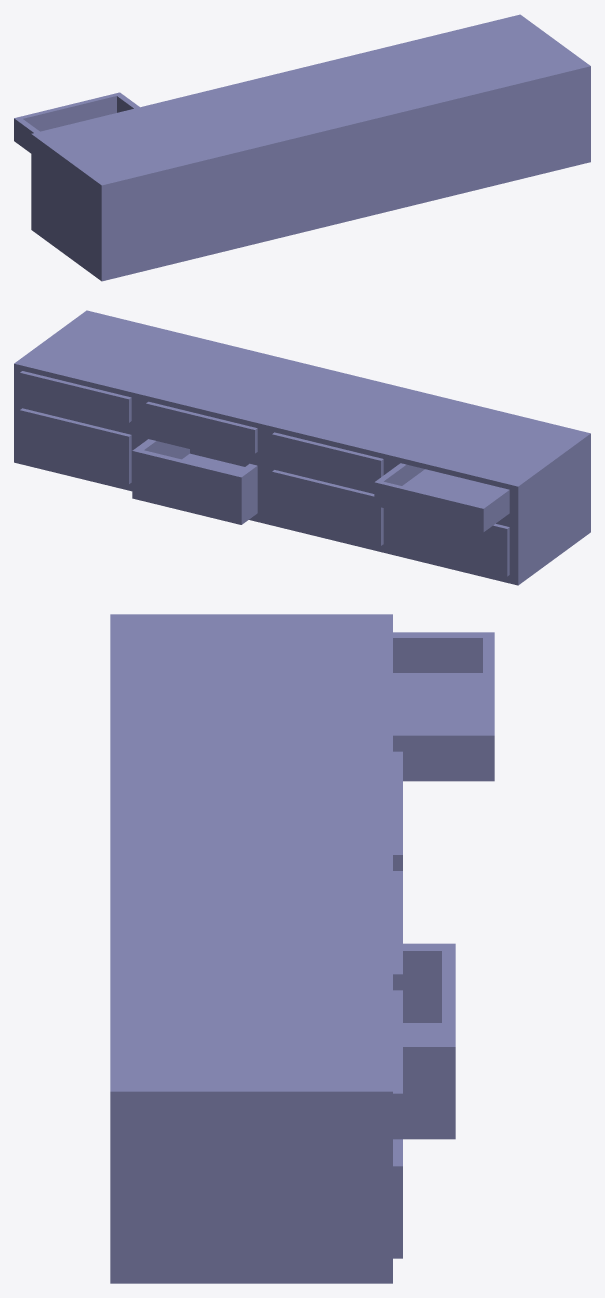
The model's file is garagecupboard.fbx.
3 views of the same model, one above another, from view 1: azimuth 30°, elevation 25°; view 2: azimuth 150°, elevation 25°; view 3: azimuth 270°, elevation 25° (orthographic). The views are drawn at different scales.
Visible parts, largest first — view 1: Garage Cupboard; view 2: Garage Cupboard; view 3: Garage Cupboard.
Part boxes in pixels (x1,y1,x2,y2): Garage Cupboard: [14, 14, 590, 281]; Garage Cupboard: [14, 310, 590, 585]; Garage Cupboard: [110, 614, 494, 1283].
Size of the model in its own units: 1600 by 300 by 544.
